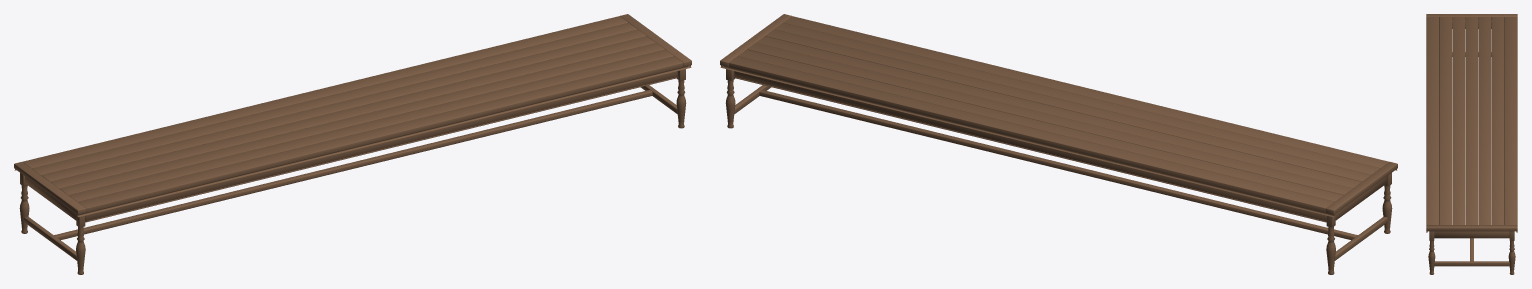
Rendered from dining_table.glb.
3 views of the same model, side by side, from view 1: azimuth 30°, elevation 25°; view 2: azimuth 150°, elevation 25°; view 3: azimuth 270°, elevation 25° (orthographic). The views are drawn at different scales.
Visible parts, largest first — view 1: dining_table; view 2: dining_table; view 3: dining_table.
Boxes of the visible parts, box(x1,y1,x2,y2) form: dining_table: box(14, 14, 691, 274); dining_table: box(720, 14, 1397, 274); dining_table: box(1426, 14, 1517, 274).
Bounding box in the file's own units: 7.2 × 0.7605 × 1.3.
